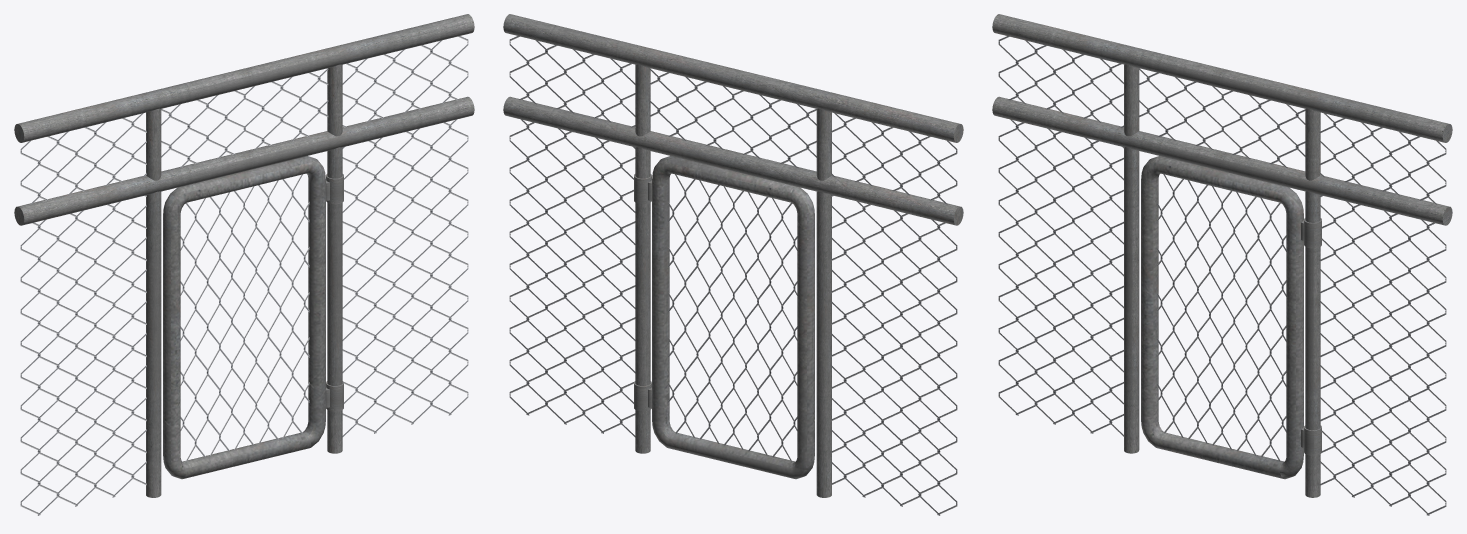
File: ChainFence01.FBX
The picture shows the model from 3 angles, left to right: view 1: azimuth 30°, elevation 25°; view 2: azimuth 150°, elevation 25°; view 3: azimuth 330°, elevation 25°; orthographic projection.
Visible parts, largest first — view 1: Plane001, Cylinder028, Cylinder030, Cylinder029, Cylinder031, Plane002, Cylinder032; view 2: Plane001, Cylinder028, Cylinder030, Cylinder029, Cylinder031, Plane002, Cylinder032; view 3: Plane001, Cylinder028, Cylinder030, Cylinder029, Cylinder031, Plane002, Cylinder032.
Part boxes in pixels (x1,y1,x2,y2): Plane001: (20, 36, 468, 515); Cylinder028: (163, 156, 325, 479); Cylinder030: (14, 14, 474, 142); Cylinder029: (14, 96, 474, 225); Cylinder031: (146, 108, 161, 497); Plane002: (180, 174, 309, 461); Cylinder032: (327, 64, 342, 453); Plane001: (509, 36, 957, 515); Cylinder028: (652, 156, 814, 479); Cylinder030: (503, 14, 963, 142); Cylinder029: (503, 96, 963, 225); Cylinder031: (816, 108, 831, 497); Plane002: (668, 174, 797, 461); Cylinder032: (635, 64, 650, 453); Plane001: (998, 36, 1446, 515); Cylinder028: (1141, 156, 1303, 479); Cylinder030: (992, 14, 1452, 142); Cylinder029: (992, 96, 1452, 225); Cylinder031: (1124, 64, 1139, 453); Plane002: (1157, 174, 1286, 461); Cylinder032: (1305, 108, 1320, 497).
Bounding box in the file's own units: 475 × 406 × 17.98.
1 material, 1 textured.
